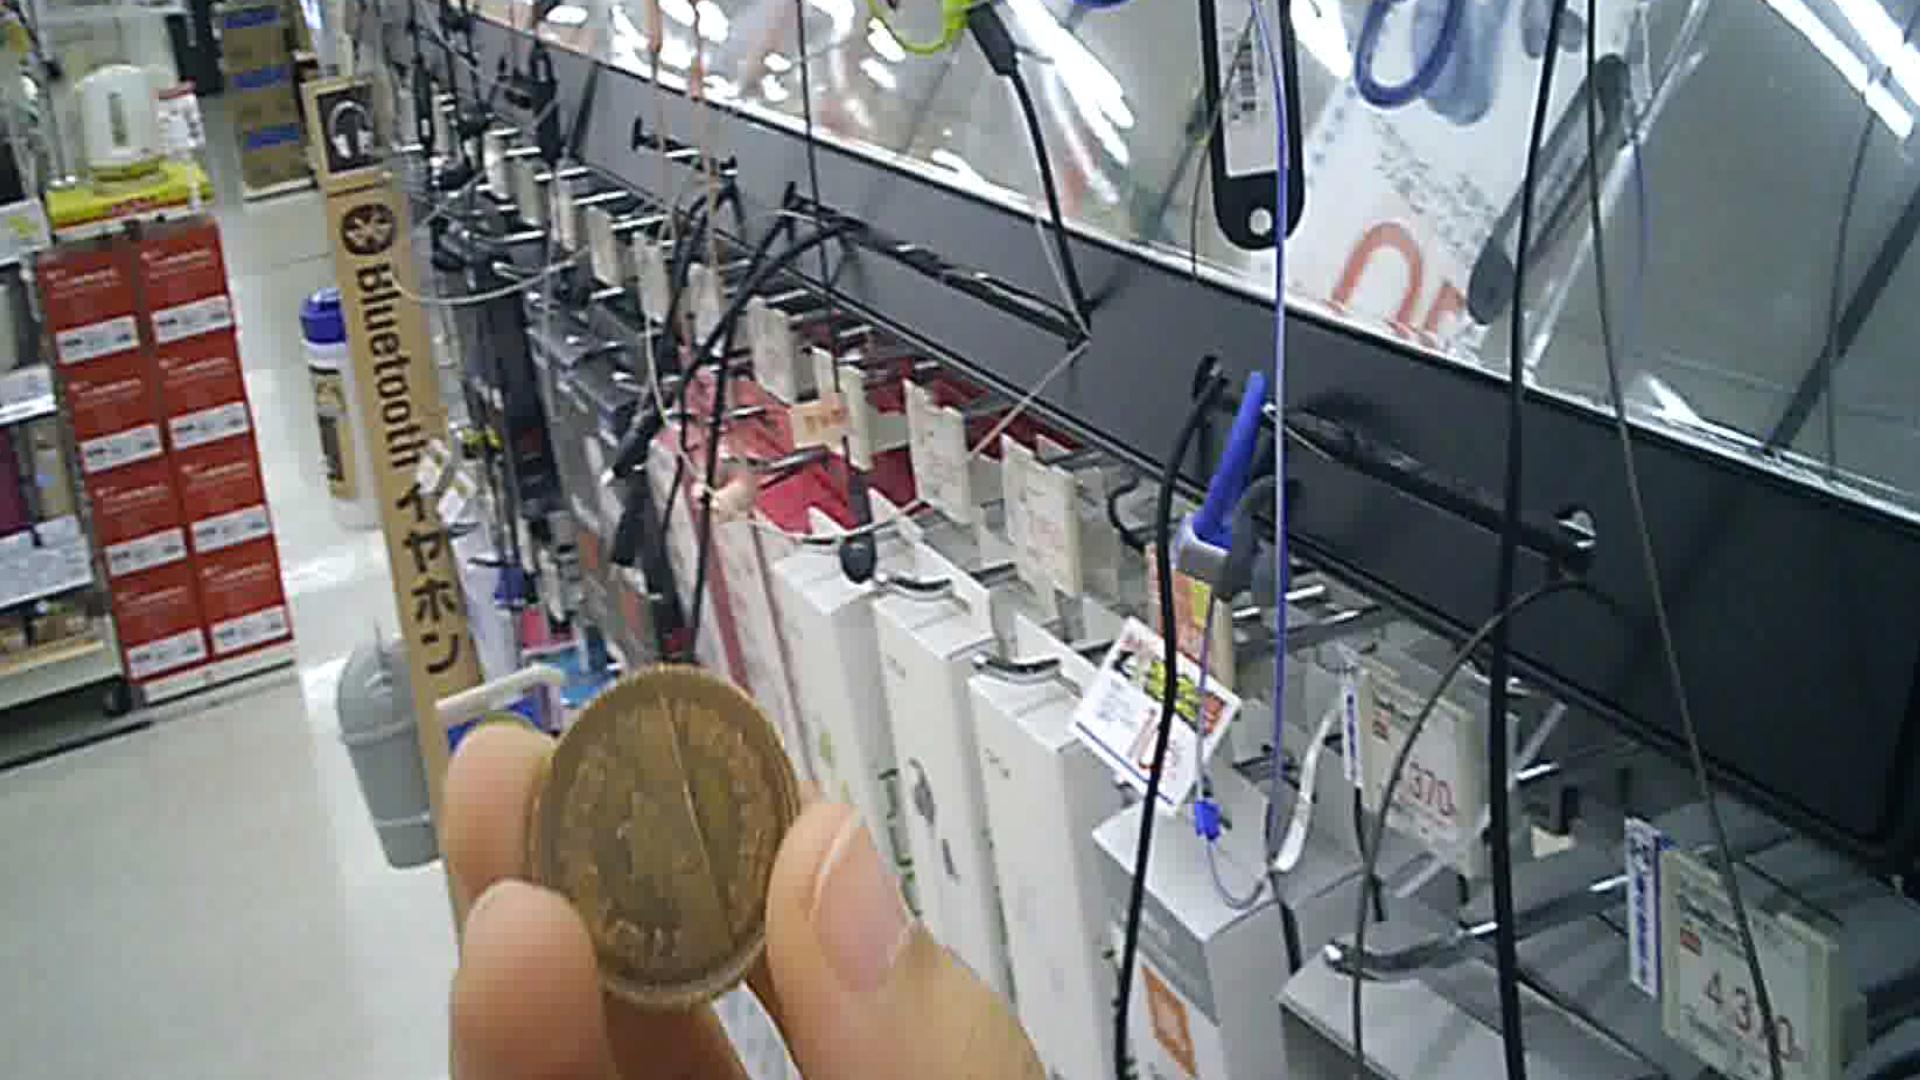10 Yen: (524, 669, 802, 993)
